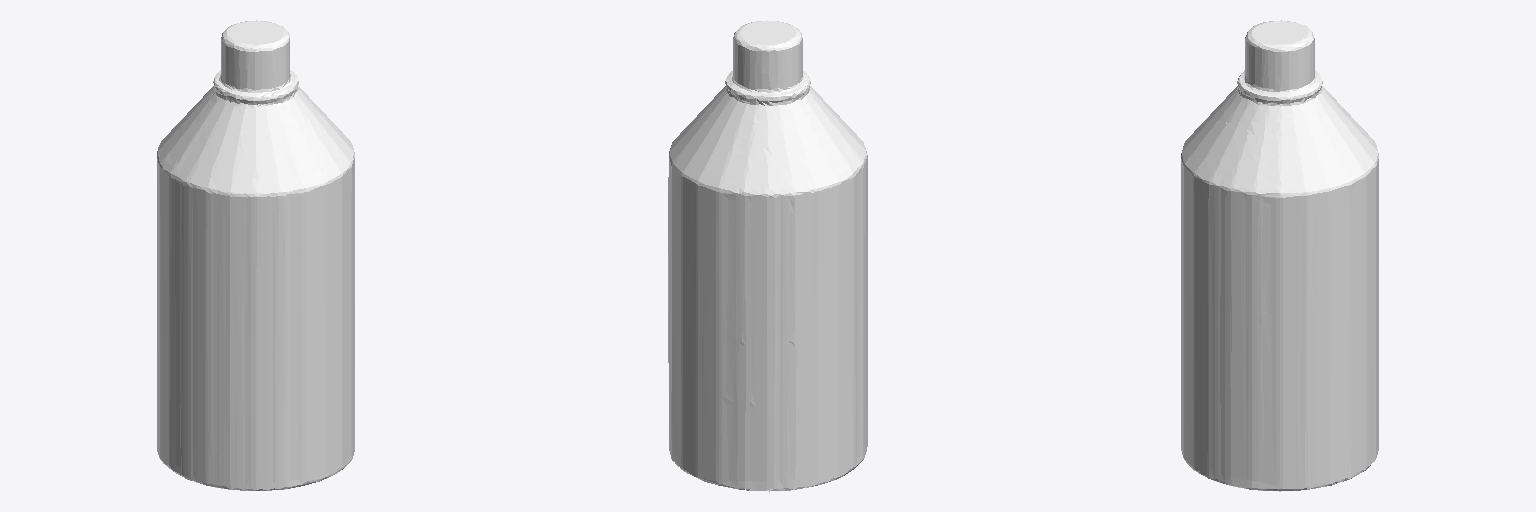
robot.urdf — test.urdf:
<?xml version="1.0" ?>
<robot name="test.urdf">
  <link name="baseLink">
    <contact>
      <friction_anchor/>
<!--       <stiffness value="30000.0"/>
      <damping value="1000.0"/> -->
<!--       <spinning_friction value="0.1"/>
 --><!--       <lateral_friction value="5.0"/> -->
    <!--   <inertia_scaling value="3.0"/> -->
      <lateral_friction value="1.5"/>
      <rolling_friction value="0.0"/>
    </contact>
    <inertial>
      <origin rpy="0 0 0" xyz="0.00 0 0.00"/>
       <mass value="0.5"/>
       <inertia ixx="1" ixy="0" ixz="0" iyy="1" iyz="0" izz="1"/>
    </inertial>
    <visual>
      <origin rpy="0 0 0" xyz="0 0 0"/>
      <geometry>
				<mesh filename="model_normalized.processed.obj" scale="1 1 1"/>
      </geometry>
       <material name="white">
        <color rgba="1 1 1 1"/>
      </material>
    </visual>
    <collision>
      <origin rpy="0 0 0" xyz="0 0 0"/>
      <geometry>
	 	<mesh filename="model_normalized_convex.obj" scale="1 1 1"/>
      </geometry>
    </collision>
  </link>
</robot>

--- Render facts (derived) ---
Views: 3 orthographic renders of the robot side by side, from view 1: azimuth 30°, elevation 25°; view 2: azimuth 150°, elevation 25°; view 3: azimuth 270°, elevation 25°.
Model test.urdf with 1 links and 0 joints (none), rooted at baseLink, posed every joint at zero.
Links seen in each view (by area): view 1: baseLink; view 2: baseLink; view 3: baseLink.
Boxes of the visible links, x1,y1,x2,y2 form: baseLink: (157,20,354,490); baseLink: (668,20,867,491); baseLink: (1181,20,1378,491).
Size in the robot's own frame: 0.0968 by 0.0968 by 0.2246 metres.
Meshes: 1 distinct files referenced, 1 mesh visuals loaded (1 OBJ).
